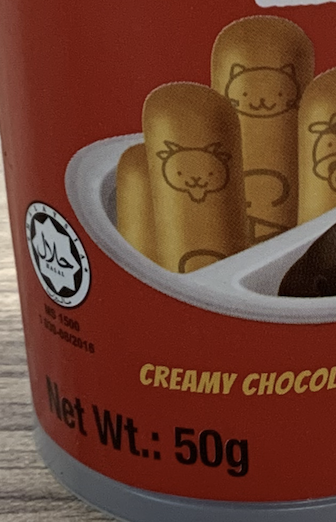halal: (30, 208, 89, 301)
